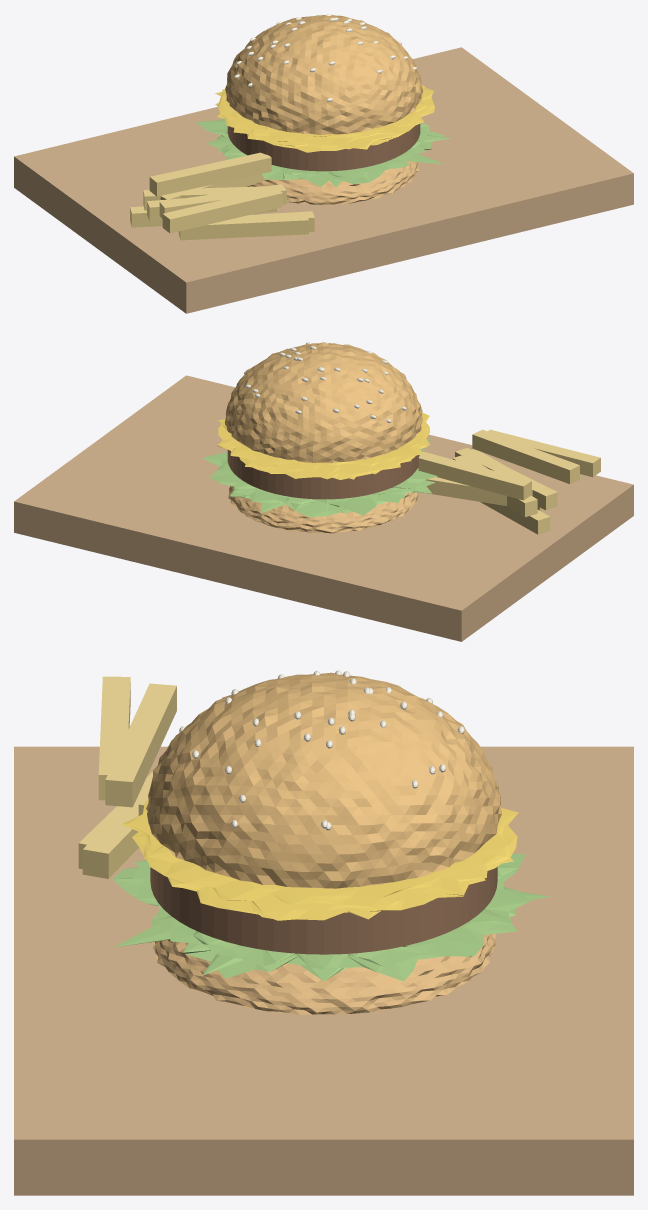
File: hamburguer.glb
The picture shows the model from 3 angles, top to bottom: view 1: azimuth 30°, elevation 25°; view 2: azimuth 150°, elevation 25°; view 3: azimuth 270°, elevation 25°; orthographic projection. The views are drawn at different scales.
Visible parts, largest first — view 1: hamburguer_0, hamburguer_8, hamburguer_4, hamburguer_3, hamburguer_2, hamburguer_1, hamburguer_57, hamburguer_54, hamburguer_49, hamburguer_51, hamburguer_53, hamburguer_55 (+2 smaller); view 2: hamburguer_0, hamburguer_8, hamburguer_2, hamburguer_4, hamburguer_3, hamburguer_1, hamburguer_57, hamburguer_51, hamburguer_54, hamburguer_50, hamburguer_56, hamburguer_52 (+1 smaller); view 3: hamburguer_0, hamburguer_8, hamburguer_4, hamburguer_1, hamburguer_3, hamburguer_2, hamburguer_51, hamburguer_54, hamburguer_55, hamburguer_49.
Part boxes in pixels (bbox=[...]): hamburguer_0: bbox=[14, 47, 633, 313]; hamburguer_8: bbox=[225, 14, 423, 134]; hamburguer_4: bbox=[215, 85, 434, 152]; hamburguer_3: bbox=[227, 124, 420, 171]; hamburguer_2: bbox=[195, 118, 451, 187]; hamburguer_1: bbox=[247, 161, 419, 205]; hamburguer_57: bbox=[149, 152, 271, 196]; hamburguer_54: bbox=[162, 188, 282, 233]; hamburguer_49: bbox=[178, 215, 308, 240]; hamburguer_51: bbox=[159, 184, 286, 218]; hamburguer_53: bbox=[143, 186, 265, 210]; hamburguer_55: bbox=[221, 211, 314, 231]; hamburguer_0: bbox=[14, 375, 633, 641]; hamburguer_8: bbox=[225, 342, 422, 462]; hamburguer_2: bbox=[203, 439, 437, 517]; hamburguer_4: bbox=[217, 412, 429, 479]; hamburguer_3: bbox=[227, 450, 419, 499]; hamburguer_1: bbox=[228, 486, 419, 533]; hamburguer_57: bbox=[418, 451, 531, 500]; hamburguer_51: bbox=[472, 429, 579, 483]; hamburguer_54: bbox=[487, 429, 600, 477]; hamburguer_50: bbox=[425, 477, 532, 505]; hamburguer_56: bbox=[462, 450, 557, 510]; hamburguer_52: bbox=[480, 502, 550, 534]; hamburguer_0: bbox=[14, 746, 633, 1195]; hamburguer_8: bbox=[146, 672, 501, 888]; hamburguer_4: bbox=[122, 799, 518, 920]; hamburguer_1: bbox=[153, 933, 495, 1014]; hamburguer_3: bbox=[150, 867, 497, 954]; hamburguer_2: bbox=[112, 854, 550, 981]; hamburguer_51: bbox=[105, 683, 176, 807]; hamburguer_54: bbox=[98, 676, 130, 800]; hamburguer_55: bbox=[82, 778, 151, 878]; hamburguer_49: bbox=[78, 772, 152, 868].
Bounding box in the file's own units: 0.3 × 0.1084 × 0.2.
